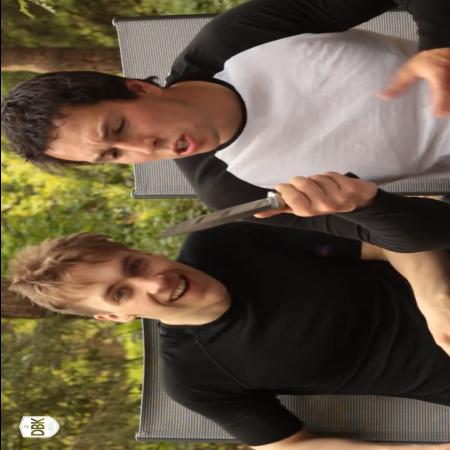long weapon: (142, 170, 336, 242)
